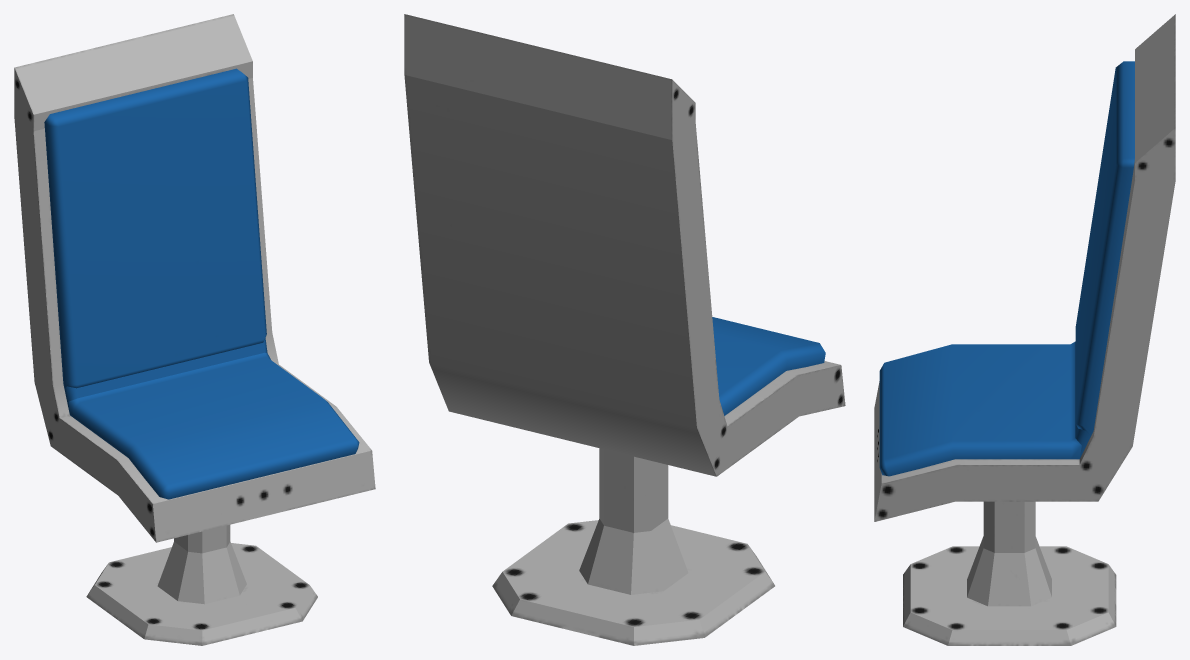
File: Armchair.fbx
The picture shows the model from 3 angles, left to right: view 1: azimuth 30°, elevation 25°; view 2: azimuth 150°, elevation 25°; view 3: azimuth 270°, elevation 25°; orthographic projection. The views are drawn at different scales.
Parts seen in each view (by area): view 1: Sci_fi_armchair; view 2: Sci_fi_armchair; view 3: Sci_fi_armchair.
Part boxes in pixels (left/top/right/bottom): Sci_fi_armchair: left=14, top=14, right=375, bottom=645; Sci_fi_armchair: left=404, top=14, right=845, bottom=645; Sci_fi_armchair: left=874, top=14, right=1175, bottom=645.
Bounding box in the file's own units: 83.31 × 182 × 93.3.
Materials: 1 (1 with a texture image).
